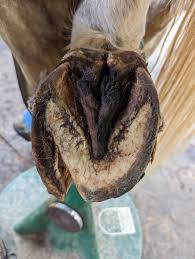horsesole: (30, 63, 161, 202)
